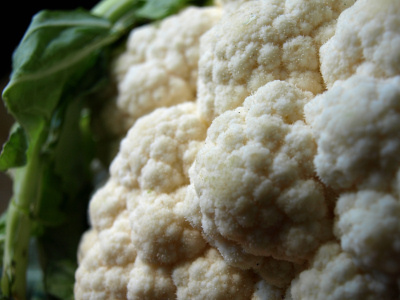cauliflower: (74, 0, 399, 299)
